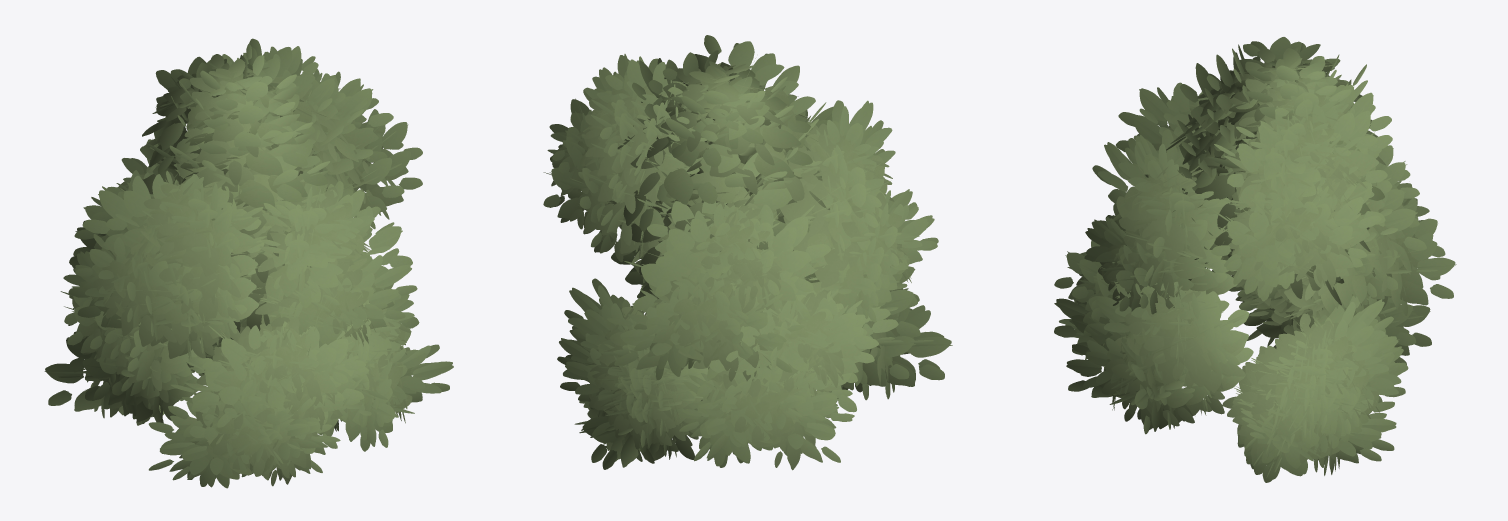
Rendered from CommonTree_1.gltf.
3 renders of one model, left to right at view 1: azimuth 30°, elevation 25°; view 2: azimuth 150°, elevation 25°; view 3: azimuth 270°, elevation 25°, orthographic. The views are drawn at different scales.
Visible parts, largest first — view 1: CommonTree_1; view 2: CommonTree_1; view 3: CommonTree_1.
Boxes of the visible parts, bbox=[...] form: CommonTree_1: bbox=[44, 38, 453, 488]; CommonTree_1: bbox=[543, 35, 952, 470]; CommonTree_1: bbox=[1054, 37, 1456, 482].
Bounding box in the file's own units: 4.31 × 4.68 × 4.58.
1 material, 1 textured.
